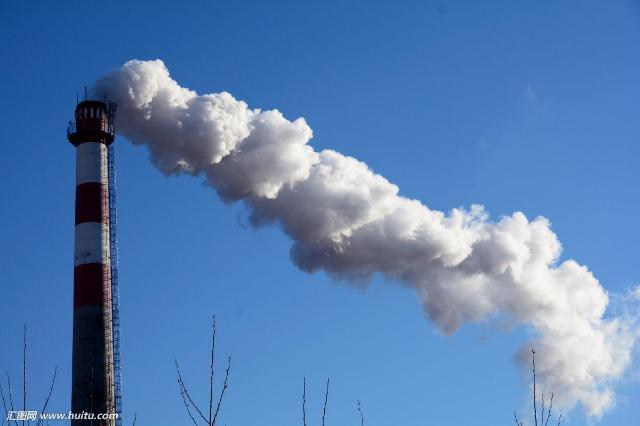smoke: (248, 103, 314, 266), (413, 288, 615, 335), (315, 147, 383, 285), (522, 336, 636, 414), (448, 208, 564, 284), (386, 176, 444, 284), (196, 88, 248, 199), (113, 56, 169, 143), (148, 88, 200, 177)
